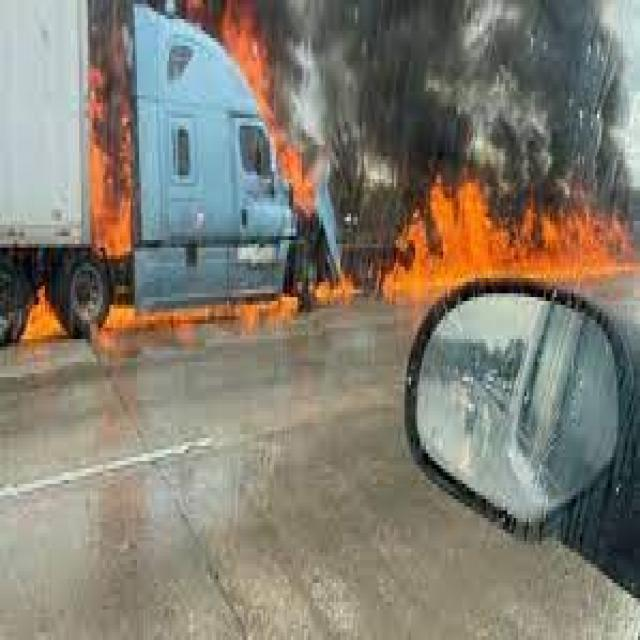fire: (374, 167, 640, 289), (220, 4, 314, 213), (98, 286, 310, 343), (88, 68, 130, 263), (22, 290, 68, 346), (314, 263, 362, 312)
smoke: (304, 4, 638, 202)
